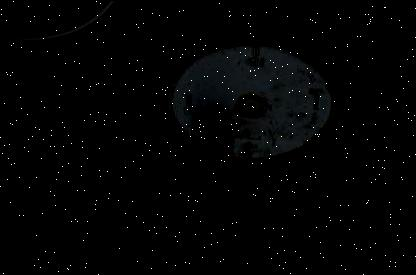Can: (188, 106, 232, 188)
